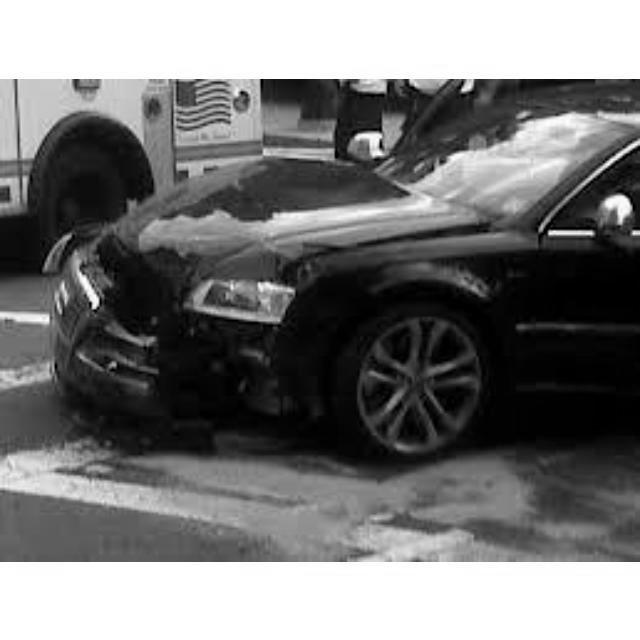bonnet-dent: (127, 131, 451, 259)
front-bumper-dent: (42, 252, 188, 390)
